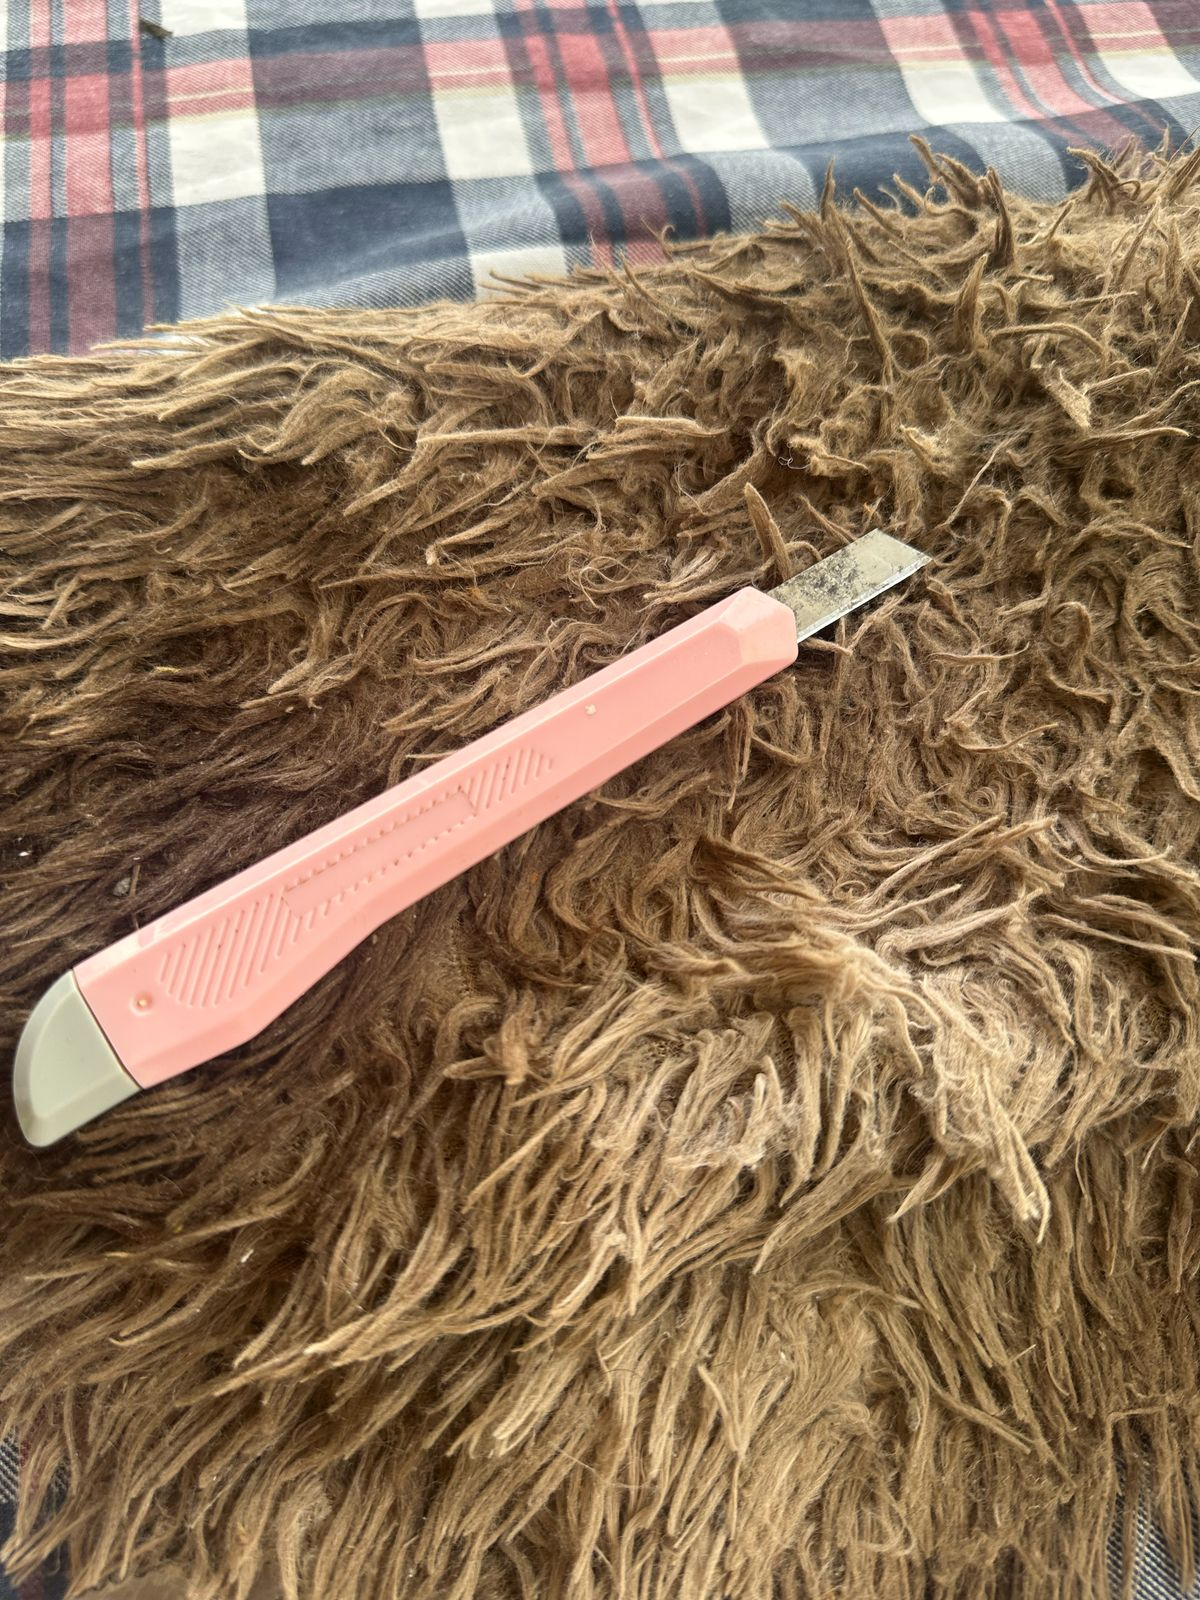estilete: (24, 491, 971, 1154)
